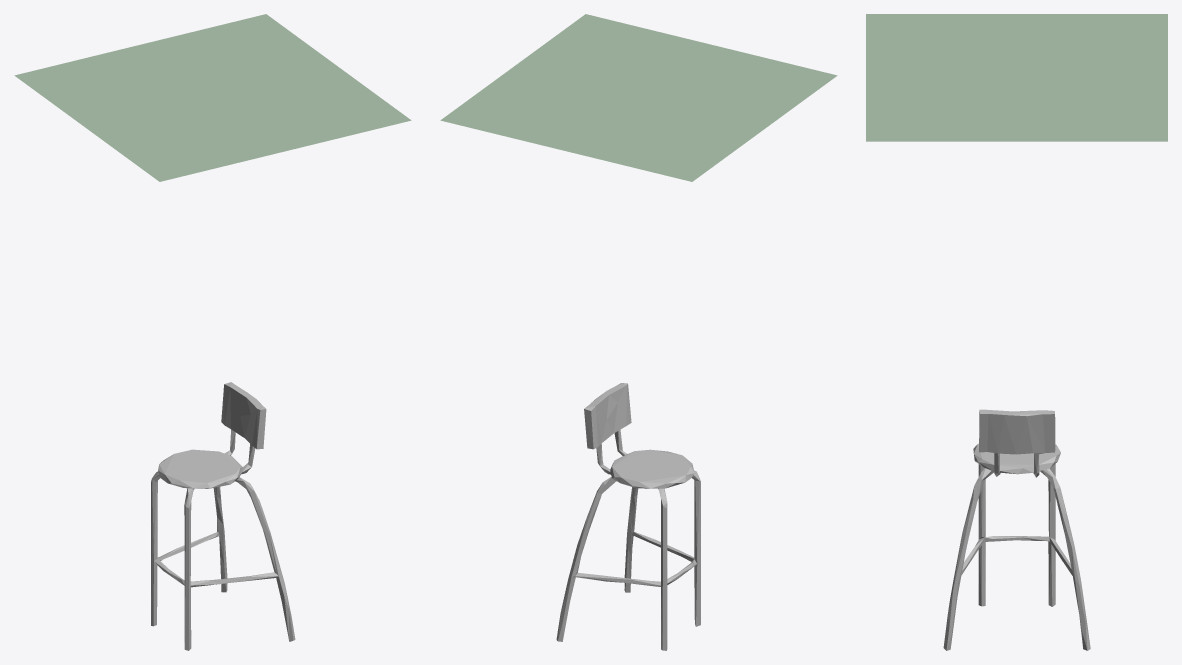
The model's file is init.glb.
3 renders of one model, left to right at view 1: azimuth 30°, elevation 25°; view 2: azimuth 150°, elevation 25°; view 3: azimuth 270°, elevation 25°, orthographic. The views are drawn at different scales.
Parts seen in each view (by area): view 1: world, object.obj; view 2: world, object.obj; view 3: world, object.obj.
Part boxes in pixels (<box>): world: <box>14,14,411,181</box>; object.obj: <box>151,382,295,650</box>; world: <box>440,14,837,181</box>; object.obj: <box>556,383,700,650</box>; world: <box>866,14,1167,141</box>; object.obj: <box>943,409,1090,650</box>.
Size of the model in its own units: 0.4981 by 1 by 0.4981.
